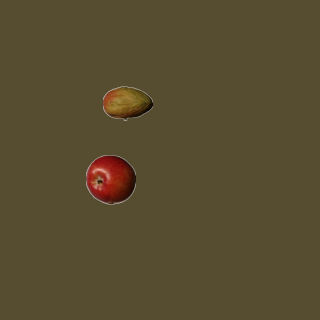Apple Braeburn: (85, 154, 135, 204)
Papaya: (102, 78, 152, 128)
